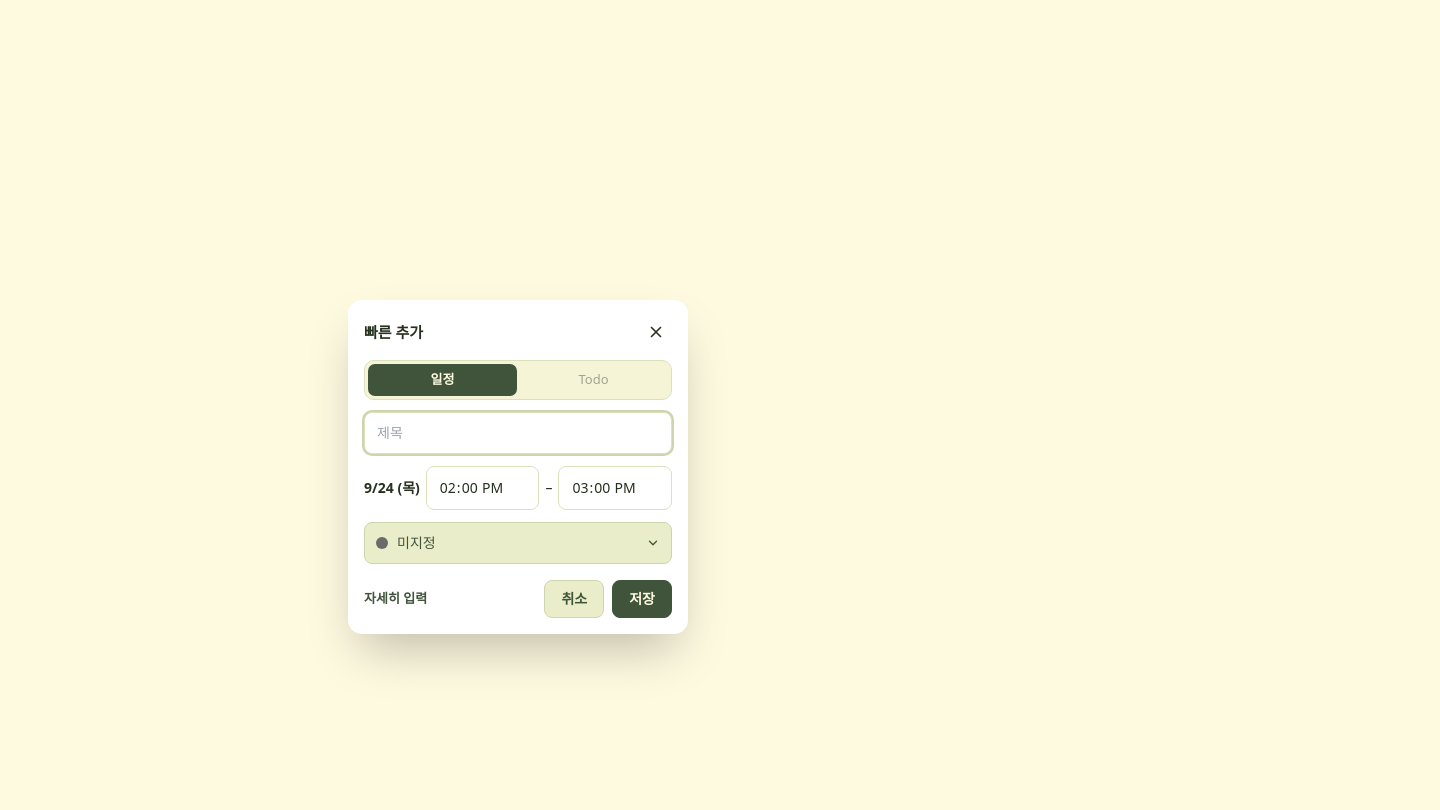
빠른 추가 팝업 (US-10, D-017, PC-03) › 시작 시간을 바꾸면 종료도 같은 길이만큼 옮겨진다
This screenshot has width=1440, height=810.
// time 칸은 브라우저가 한 번에 값을 바꾼다 (글자 단위 입력이 아님)
Replace the text in the time field named "시작 시간" with "16:30" at (483, 488), box [426,466,539,510]
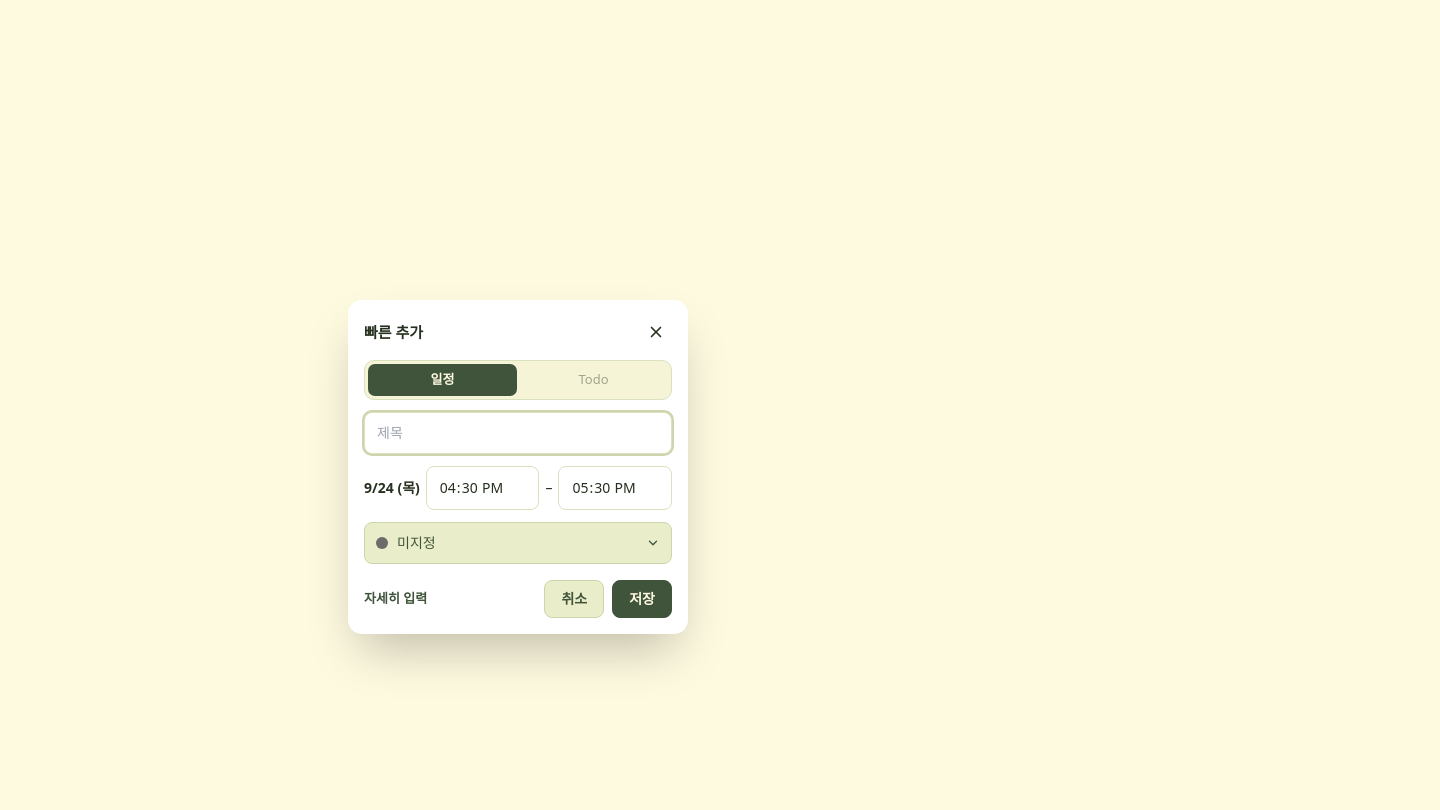
Now the time field named "종료 시간" holds "17:30", box [558,466,672,510]
